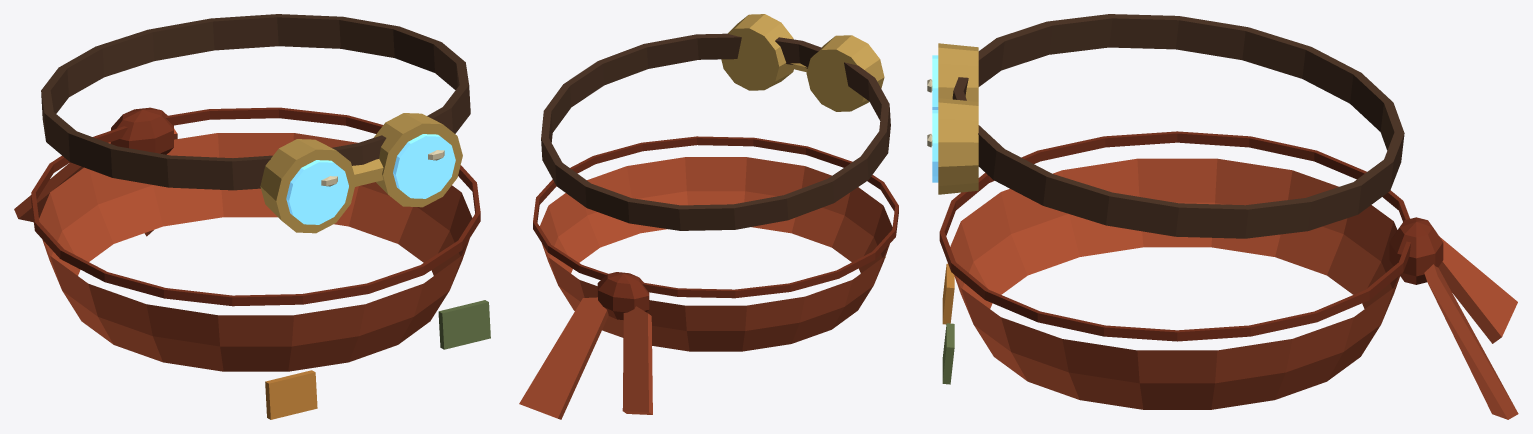
Rendered from kitewing_goggles.glb.
3 renders of one model, left to right at view 1: azimuth 30°, elevation 25°; view 2: azimuth 150°, elevation 25°; view 3: azimuth 270°, elevation 25°, orthographic. The views are drawn at different scales.
Visible parts, largest first — view 1: kitewing_goggles; view 2: kitewing_goggles; view 3: kitewing_goggles.
Boxes of the visible parts, x1=… form: kitewing_goggles: x1=14, y1=14, x2=490, y2=419; kitewing_goggles: x1=519, y1=14, x2=898, y2=419; kitewing_goggles: x1=927, y1=14, x2=1518, y2=419.
Bounding box in the file's own units: 1.17 × 0.8676 × 1.46.
